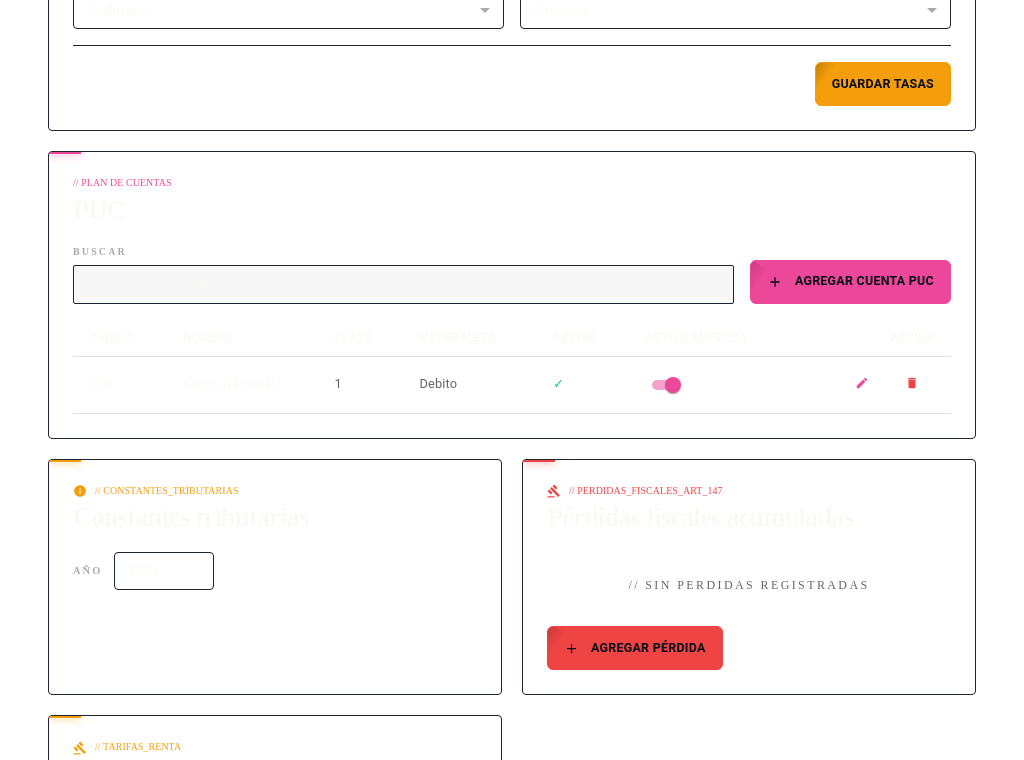
SettingsPage — destructive confirmations use Dialog, not window.confirm › deactivate PUC shows confirmation dialog instead of window.confirm
(page scrolled)
Expected: the text "Banco Nacional" is shown, [167, 356, 318, 413]
# Click the second icon-only button (Delete for PUC row)
Click the 3rd button at {"x": 912, "y": 384}, box [889, 362, 935, 406]
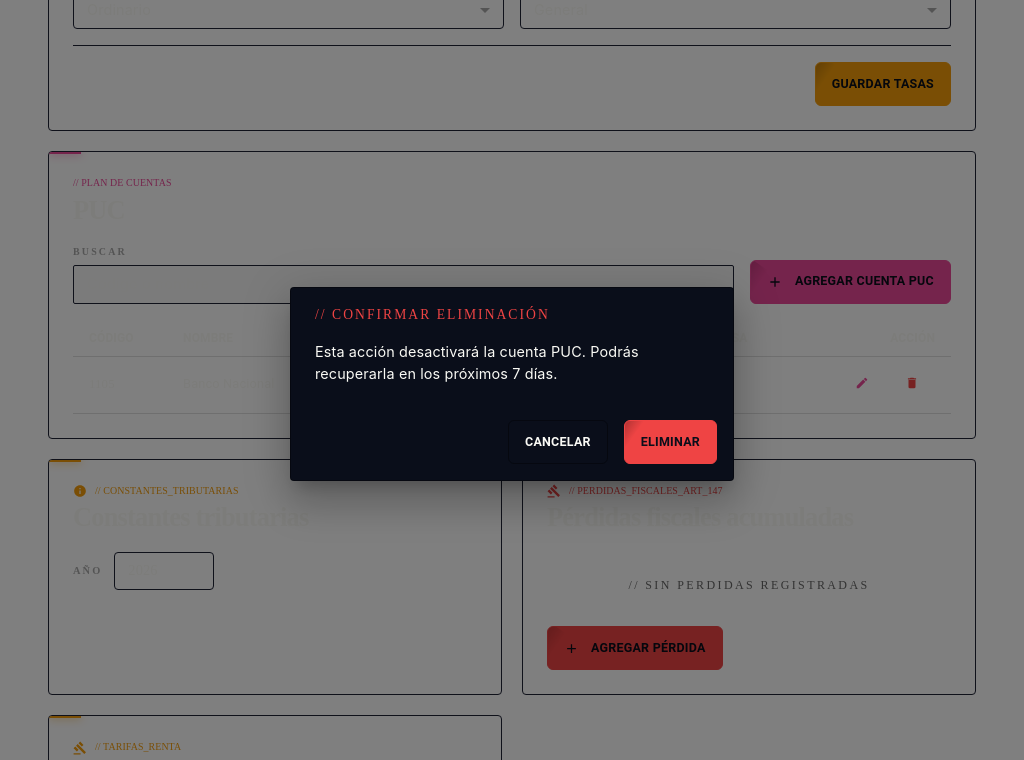
Result: the heading "// CONFIRMAR ELIMINACIÓN" is shown at [315, 306, 550, 322]
